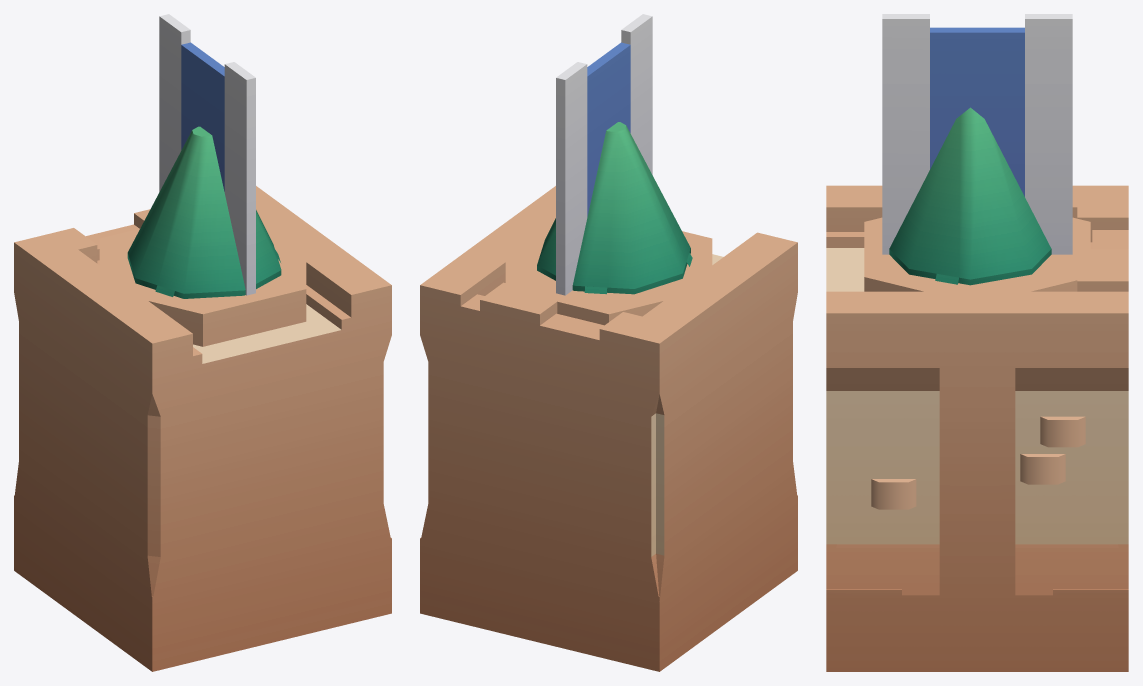
The model's file is castle.glb.
The picture shows the model from 3 angles, left to right: view 1: azimuth 30°, elevation 25°; view 2: azimuth 150°, elevation 25°; view 3: azimuth 270°, elevation 25°; orthographic projection. The views are drawn at different scales.
Parts seen in each view (by area): view 1: wall~0, wall-corner~0, wall-pillar~0, tree-large~0, flag-banner-long~0, tower-hexagon-base~0; view 2: wall~0, wall-corner~0, wall-pillar~0, flag-banner-long~0, tree-large~0, tower-hexagon-base~0; view 3: wall~0, wall-pillar~0, flag-banner-long~0, tree-large~0, wall-corner~0, tower-hexagon-base~0, tower-square-top-roof-high-windows~0, tower-square-base~0.
Part boxes in pixels (x1,y1,x2,y2): wall~0: (14,186,391,671); wall-corner~0: (14,209,389,670); wall-pillar~0: (14,209,391,669); tree-large~0: (127,126,281,298); flag-banner-long~0: (159,14,255,295); tower-hexagon-base~0: (99,228,306,346); wall~0: (420,209,797,671); wall-corner~0: (420,235,797,601); wall-pillar~0: (420,186,797,600); flag-banner-long~0: (556,14,652,295); tree-large~0: (537,122,692,294); tower-hexagon-base~0: (505,228,712,325); wall~0: (826,185,1128,671); wall-pillar~0: (826,185,1128,671); flag-banner-long~0: (882,14,1072,254); tree-large~0: (889,107,1051,285); wall-corner~0: (826,185,1128,595); tower-hexagon-base~0: (864,217,1090,304); tower-square-top-roof-high-windows~0: (826,589,1128,595); tower-square-base~0: (836,544,1118,547).
Size of the model in its own units: 1 by 2.17 by 1.
1 material, 1 textured.
